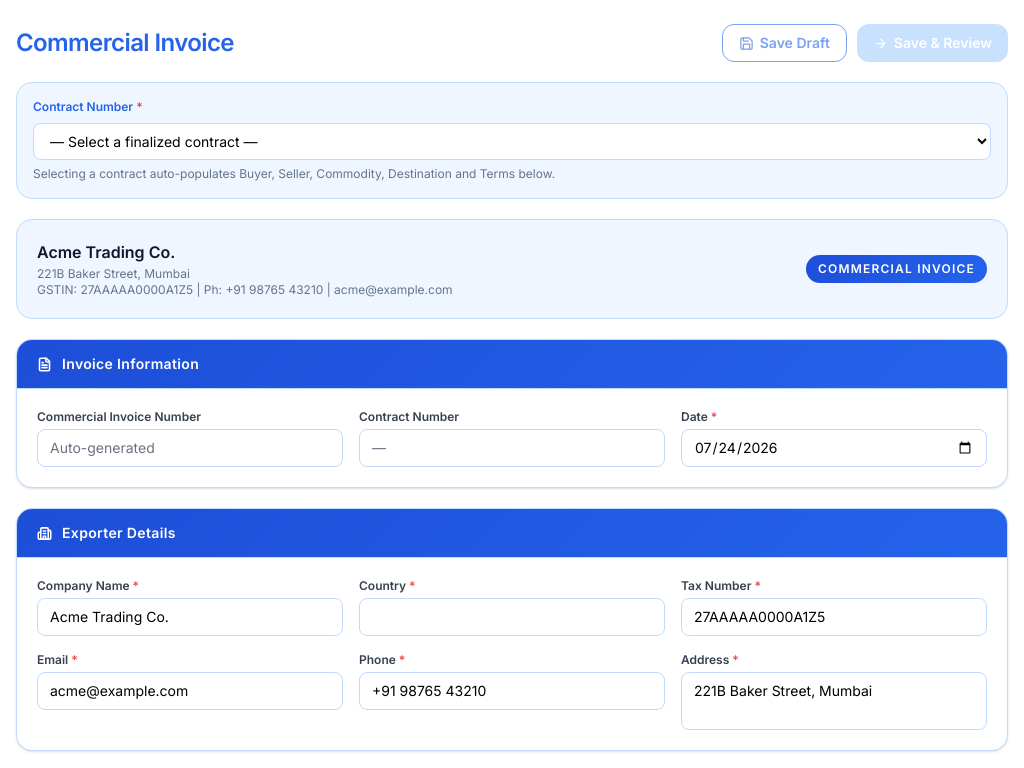
Test: CommercialInvoicePage › selects a contract and auto-populates buyer, exporter, shipping and goods details
Select "CNT/2024/001 • Buyer: Jane Buyer • Seller: John Seller" in the dropdown "— Select a finalized contract —": (512, 142) 33,123 -> 991,160
(page scrolled)
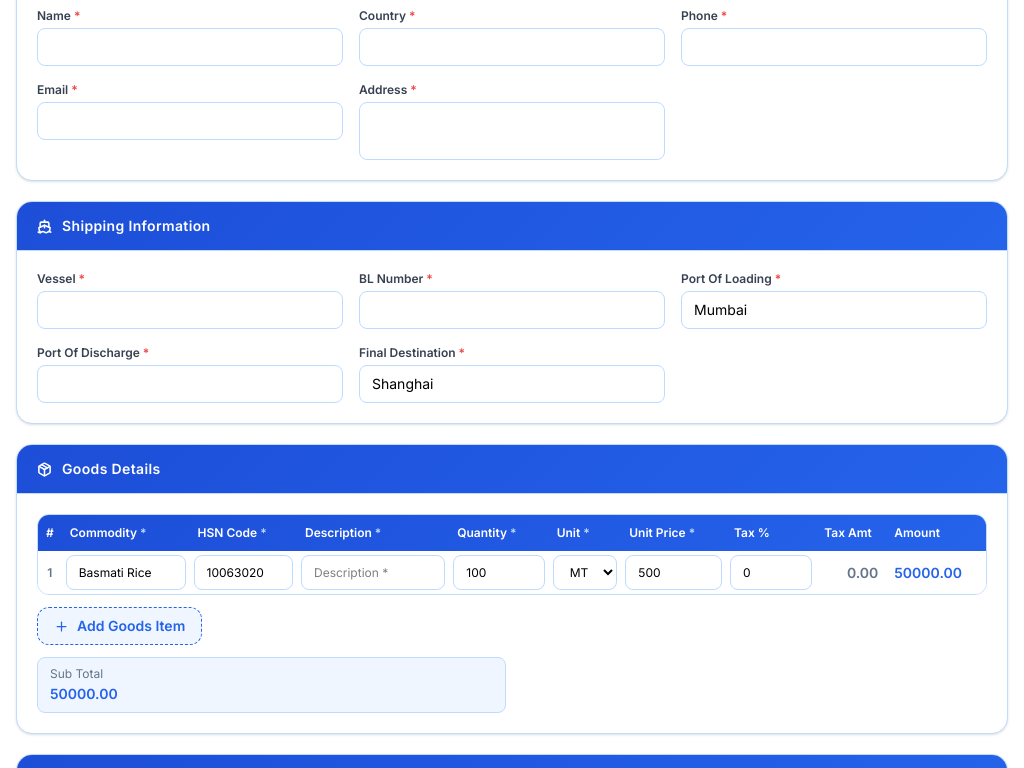
Result: the 10th field showing "Basmati Rice" is shown at 66,555 -> 186,590
Result: the 11th field showing "10063020" is shown at 194,555 -> 293,590
Result: the field showing "Mumbai" below "Port Of Loading" is shown at 681,291 -> 987,329
